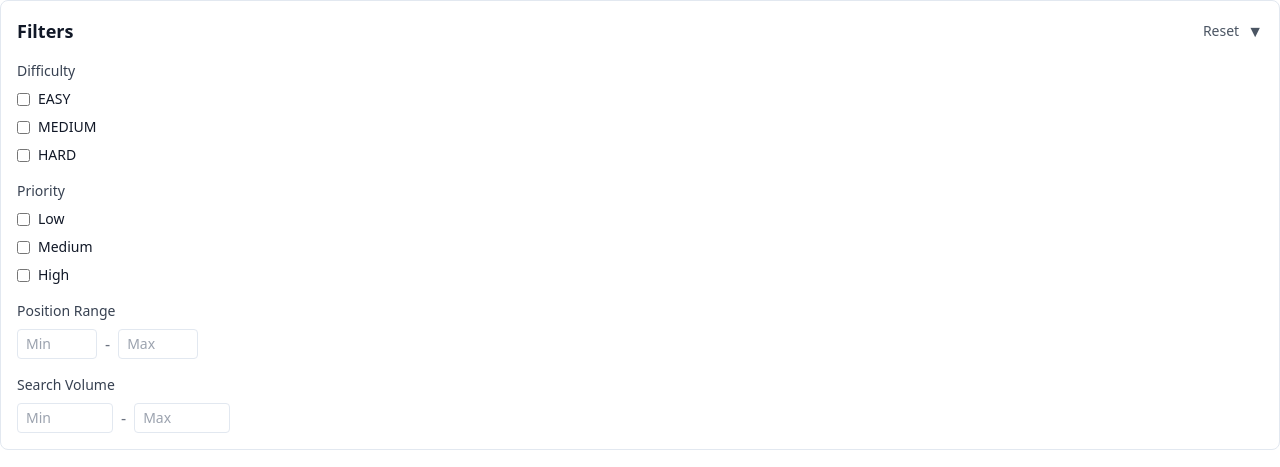
Scenario: FilterPanel Component › Collapsible Panel › should toggle panel visibility
The image size is (1280, 467).
Expected: the element with test id "filter-content" is shown, [17,61,230,433]
// Click to collapse
Click the button with test id "toggle-filters-button": (1255, 31) [1247,19,1263,43]
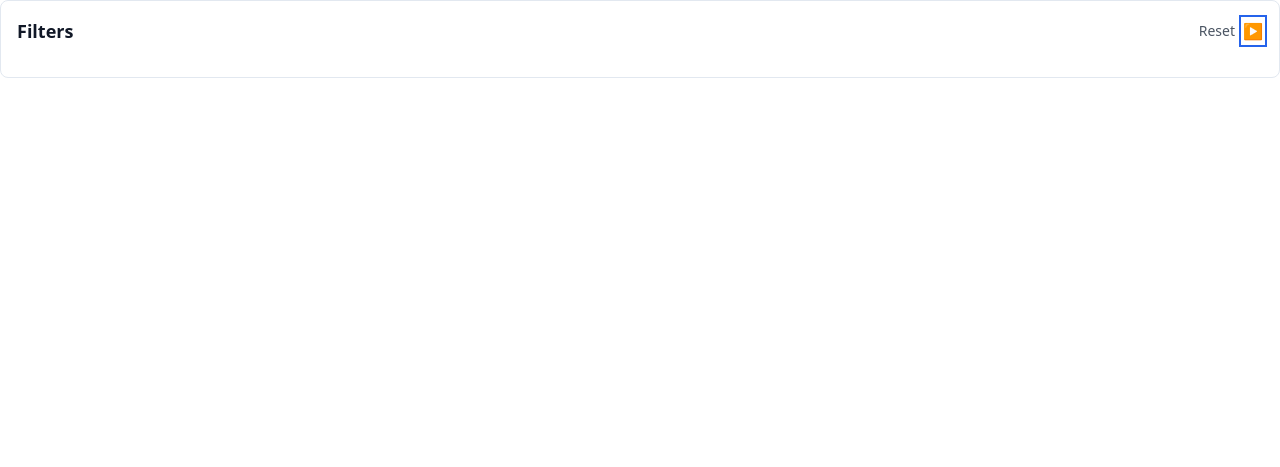
Now the element with test id "filter-content" is gone
